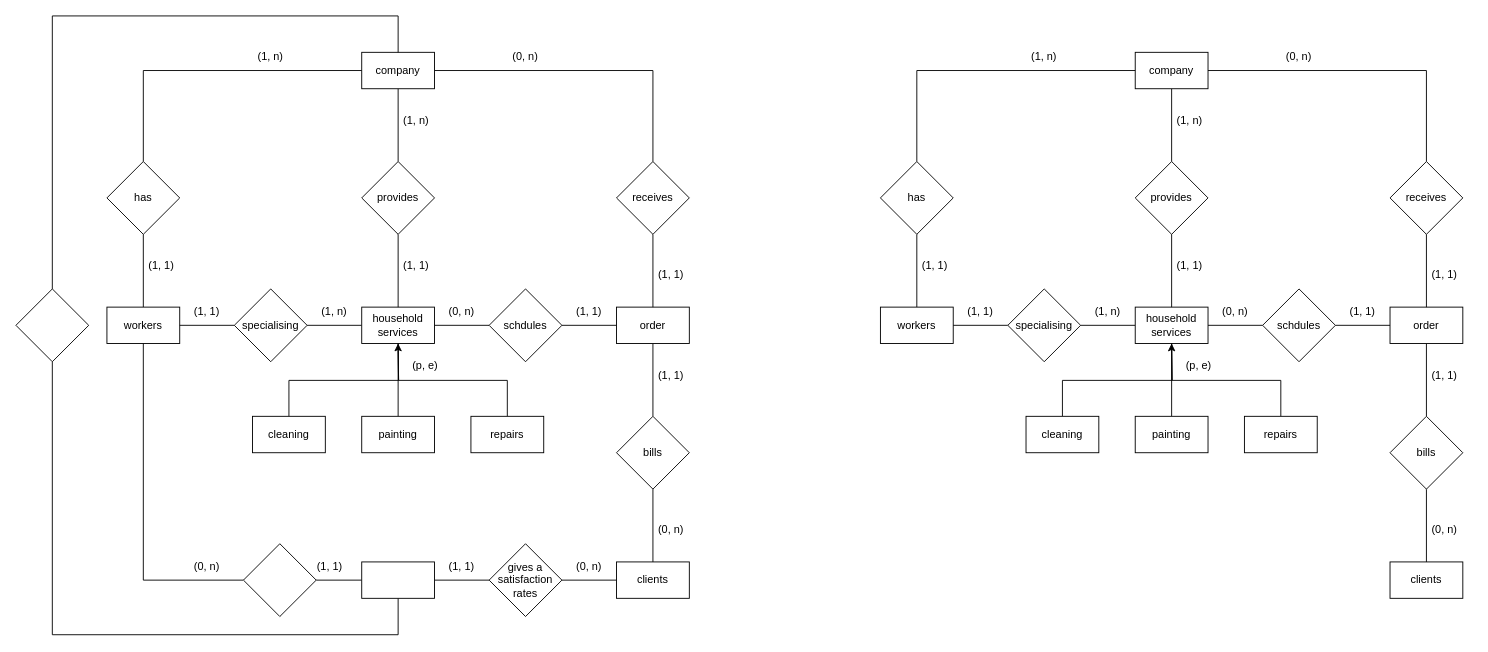
The diagram is 1488 pixels wide and 652 high, and some of its shapes have lost their labels. The shapes that lost their labels are listed below. From the top down, each one's centre as x and y in pixels, then its label:
At (52,325): "recorded".
At (279,580): "have".
At (398,579): "performance record".
